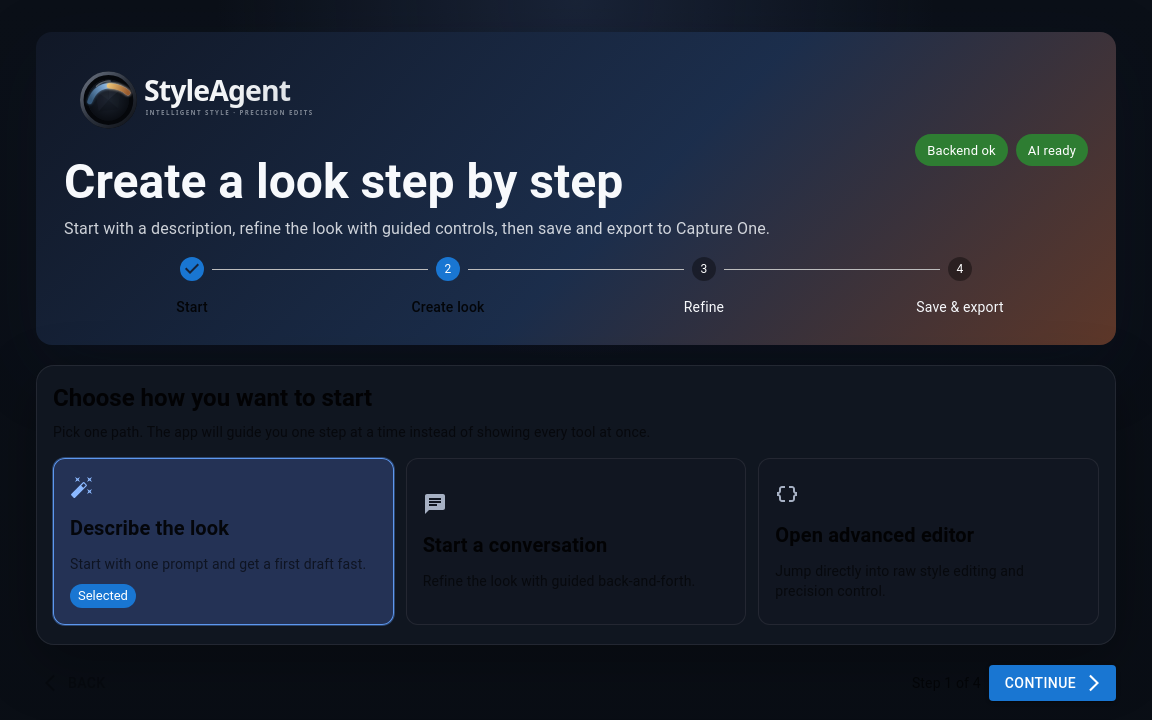
Test: App integration › shows cooldown UI when AI endpoint is rate limited
The image size is (1152, 720).
Click the button "Describe the look". click: (223, 541)
box: [54,459,393,624]
(page scrolled)
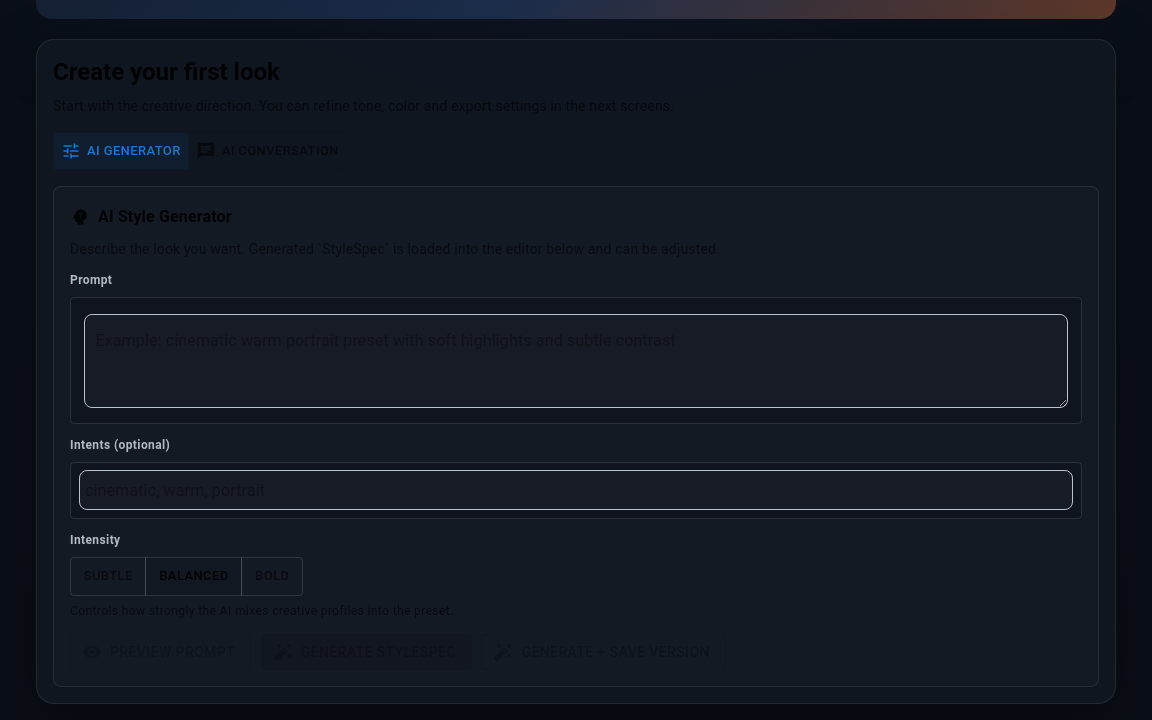
Type "rate limit prompt" into the text box named "Prompt". click: (576, 361)
box: [84,314,1068,408]
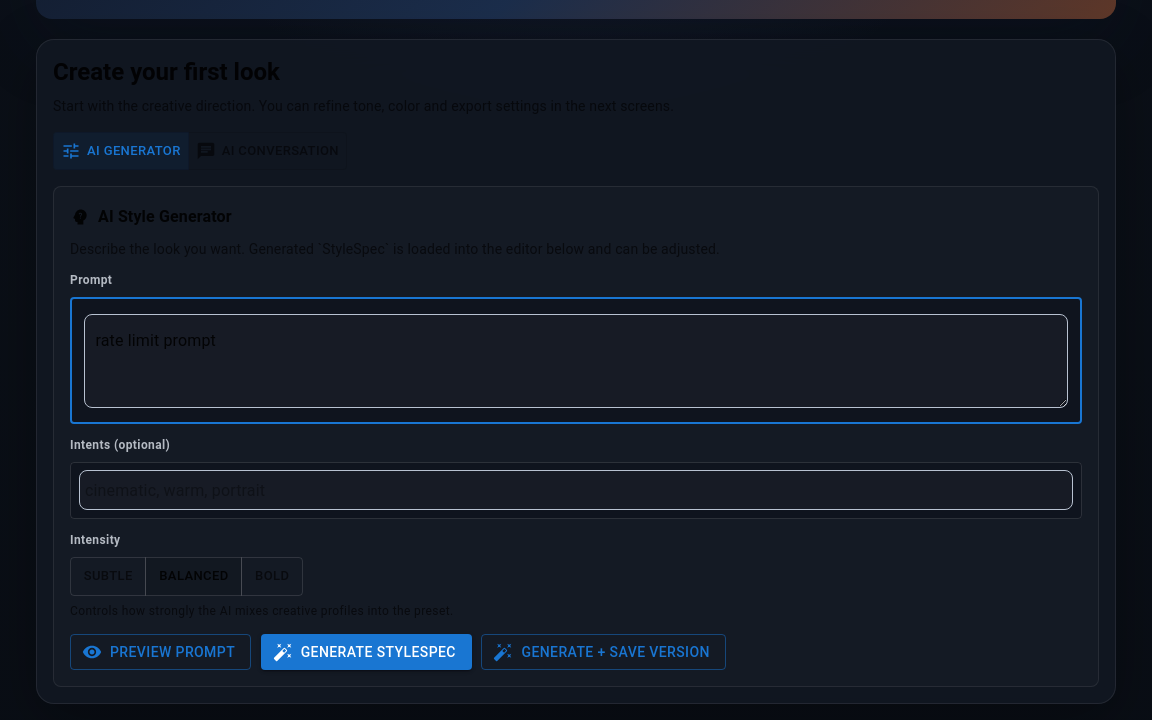
Click the button "Generate StyleSpec". click: (366, 652)
box: [261,634,472,670]
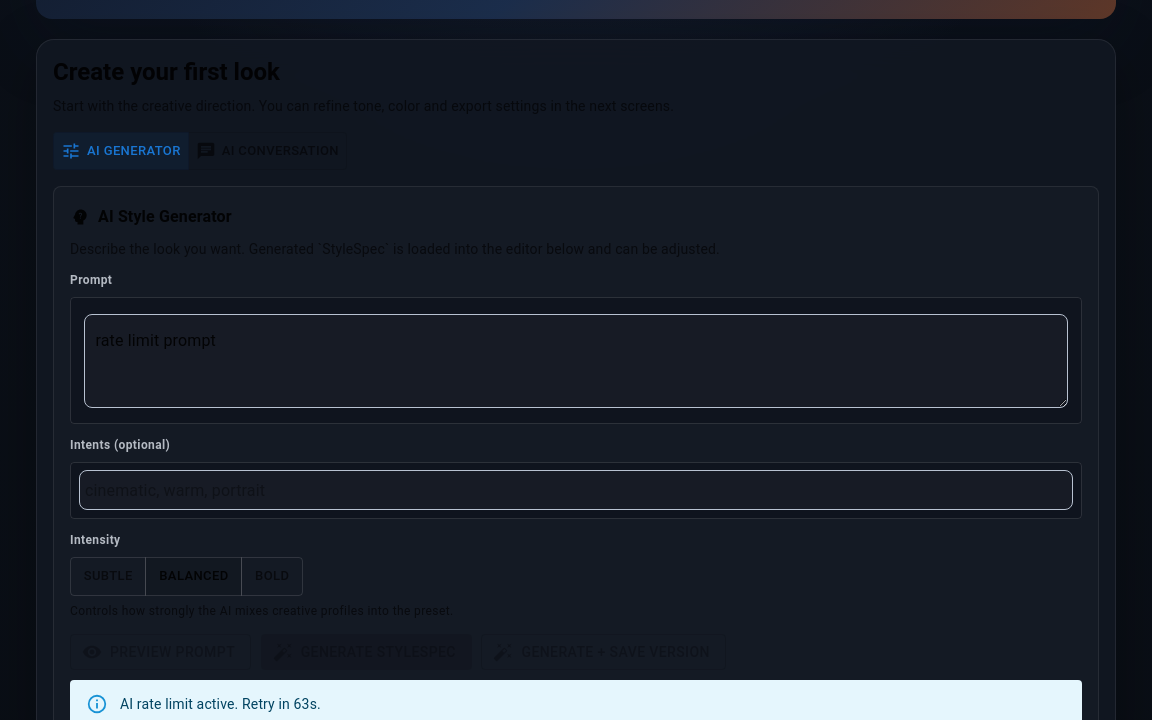
expect the text "AI rate limit active. Retry in 63s." is shown: met, box [120,696,321,712]
